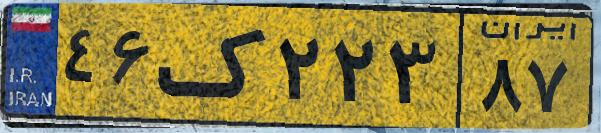2: (270, 28, 330, 110), (330, 28, 385, 110)
3: (385, 28, 445, 110)
4: (57, 26, 110, 100)
6: (110, 28, 158, 98)
7: (525, 38, 570, 115)
8: (475, 38, 525, 113)
ک: (158, 12, 270, 120)
